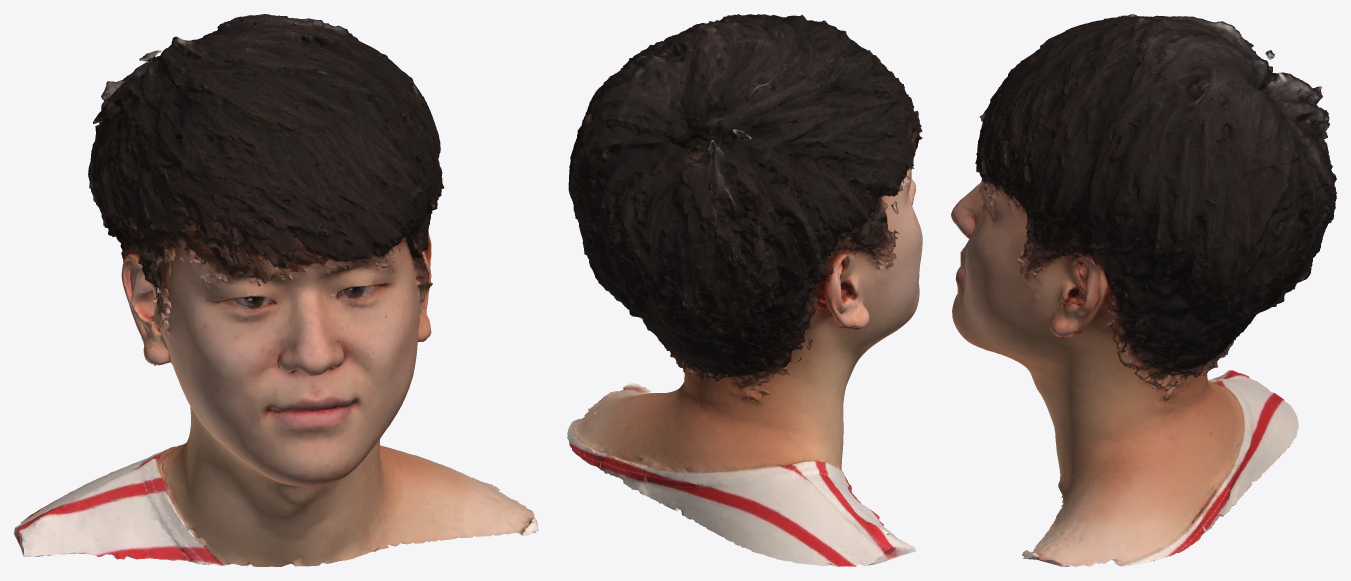
Rendered from 真人头像_男02_opt.glb.
3 views of the same model, side by side, from view 1: azimuth 30°, elevation 25°; view 2: azimuth 150°, elevation 25°; view 3: azimuth 270°, elevation 25° (orthographic). The views are drawn at different scales.
Parts seen in each view (by area): view 1: sgm_Material_u1_v1, sgm_Material_u1_v1_2, sgm_Material_u1_v1_1, sgm_Material_u1_v1_3; view 2: sgm_Material_u1_v1, sgm_Material_u1_v1_2, sgm_Material_u1_v1_1, sgm_Material_u1_v1_3; view 3: sgm_Material_u1_v1, sgm_Material_u1_v1_1, sgm_Material_u1_v1_2, sgm_Material_u1_v1_3.
Boxes of the visible parts, x1,y1,x2,y2 form: sgm_Material_u1_v1: (14, 14, 537, 566); sgm_Material_u1_v1_2: (15, 43, 323, 565); sgm_Material_u1_v1_1: (23, 16, 538, 565); sgm_Material_u1_v1_3: (19, 34, 321, 566); sgm_Material_u1_v1: (567, 14, 922, 565); sgm_Material_u1_v1_2: (599, 19, 922, 566); sgm_Material_u1_v1_1: (568, 14, 917, 554); sgm_Material_u1_v1_3: (601, 20, 921, 565); sgm_Material_u1_v1: (951, 15, 1325, 566); sgm_Material_u1_v1_1: (956, 17, 1319, 566); sgm_Material_u1_v1_2: (959, 14, 1336, 453); sgm_Material_u1_v1_3: (966, 14, 1336, 482).
Size of the model in its own units: 0.2708 by 0.3 by 0.2349.
Materials: 1 (1 with a texture image).
